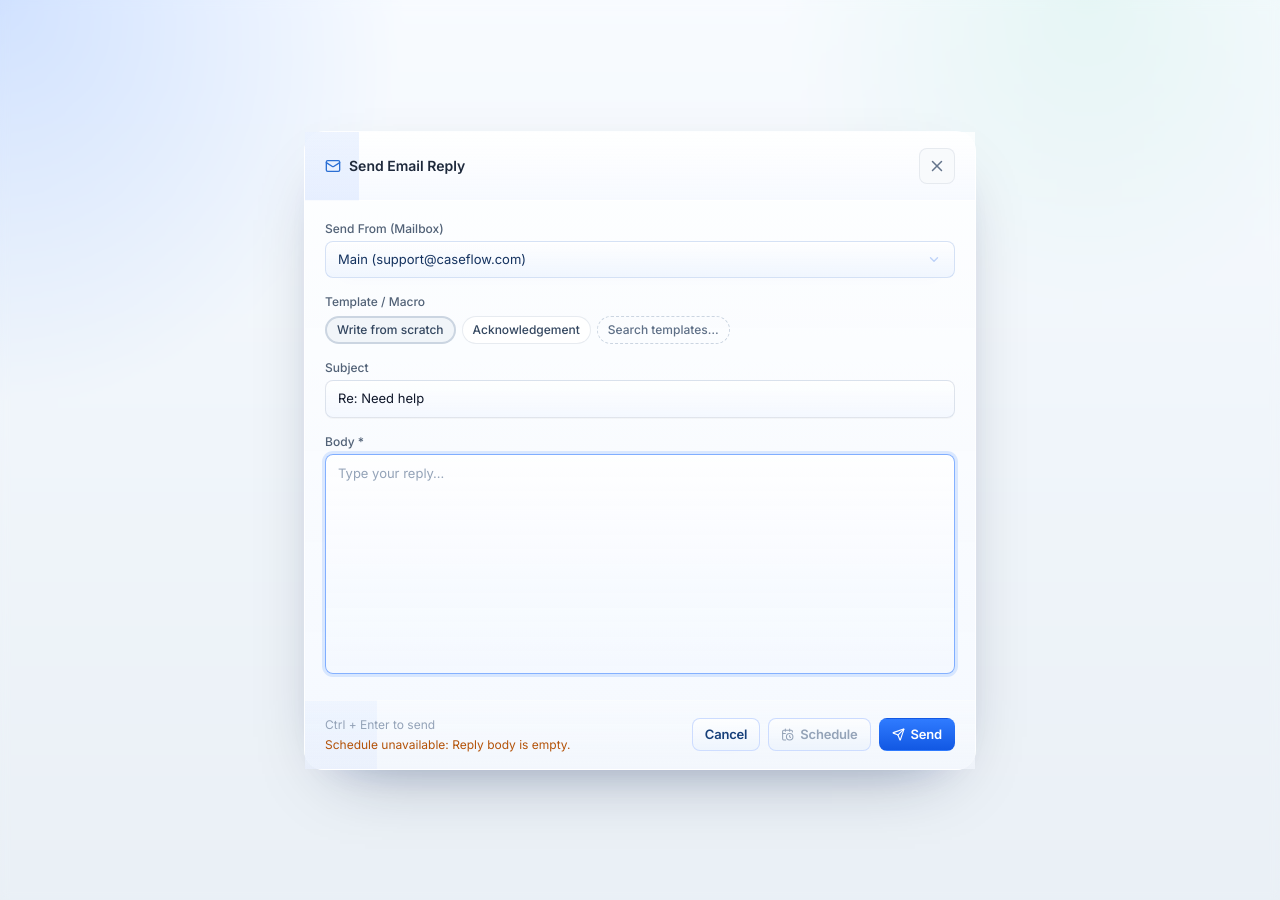
EmailReplyComposer › falls back to saved template content when preview is unavailable
Click the button "Acknowledgement" at (526, 330), box top-left (462, 316), bottom-right (591, 344)
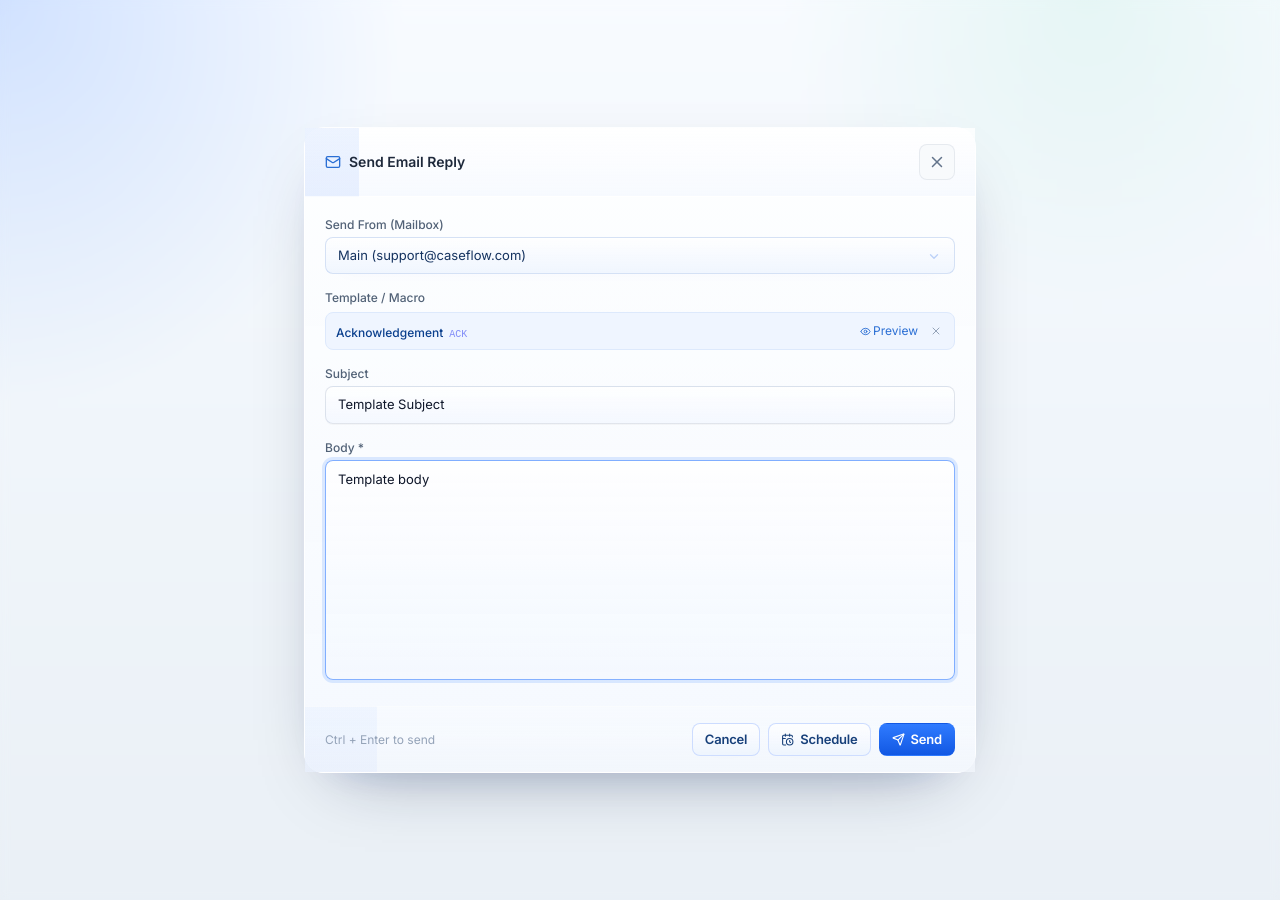
Expected: the field showing "Template Subject" is shown, top-left (325, 386), bottom-right (955, 424)
Expected: the text box showing "Template body" is shown, top-left (325, 460), bottom-right (955, 680)
